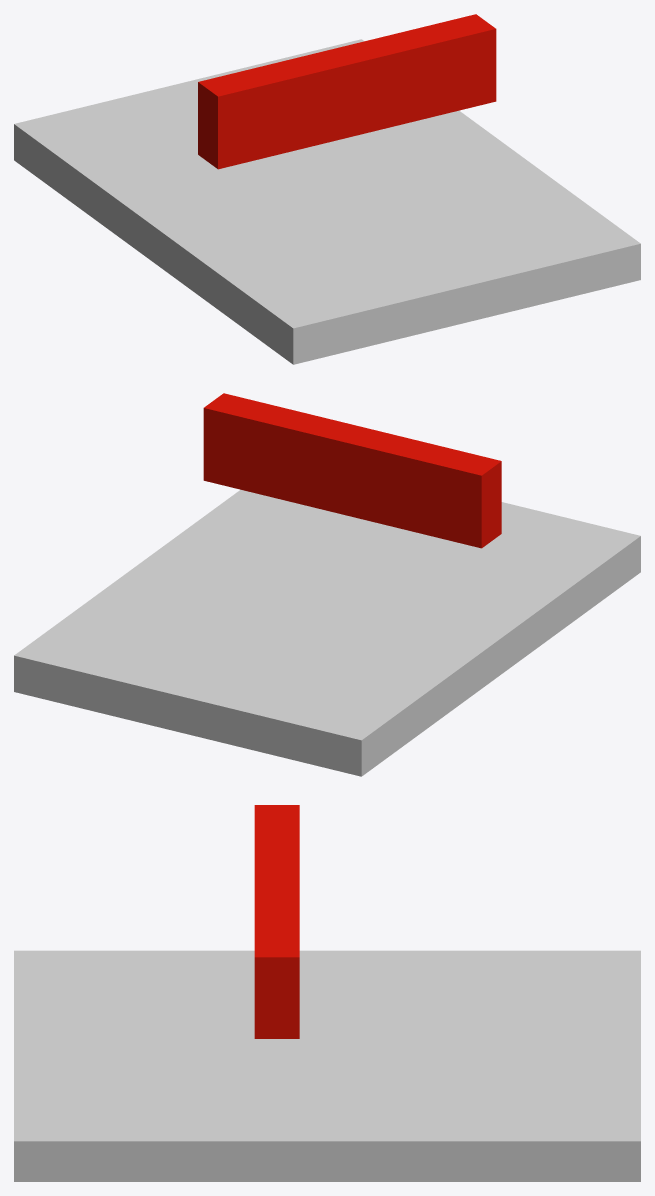
File: Module5.glb
The picture shows the model from 3 angles, top to bottom: view 1: azimuth 30°, elevation 25°; view 2: azimuth 150°, elevation 25°; view 3: azimuth 270°, elevation 25°; orthographic projection. The views are drawn at different scales.
Visible parts, largest first — view 1: Floor5-col, Obstacle8; view 2: Floor5-col, Obstacle8; view 3: Floor5-col, Obstacle8.
Boxes of the visible parts, x1,y1,x2,y2 form: Floor5-col: [14, 39, 640, 364]; Obstacle8: [198, 14, 496, 169]; Floor5-col: [14, 489, 640, 776]; Obstacle8: [203, 393, 501, 548]; Floor5-col: [14, 950, 640, 1181]; Obstacle8: [254, 805, 299, 1038].
Bounding box in the file's own units: 10 × 5 × 13.92.
